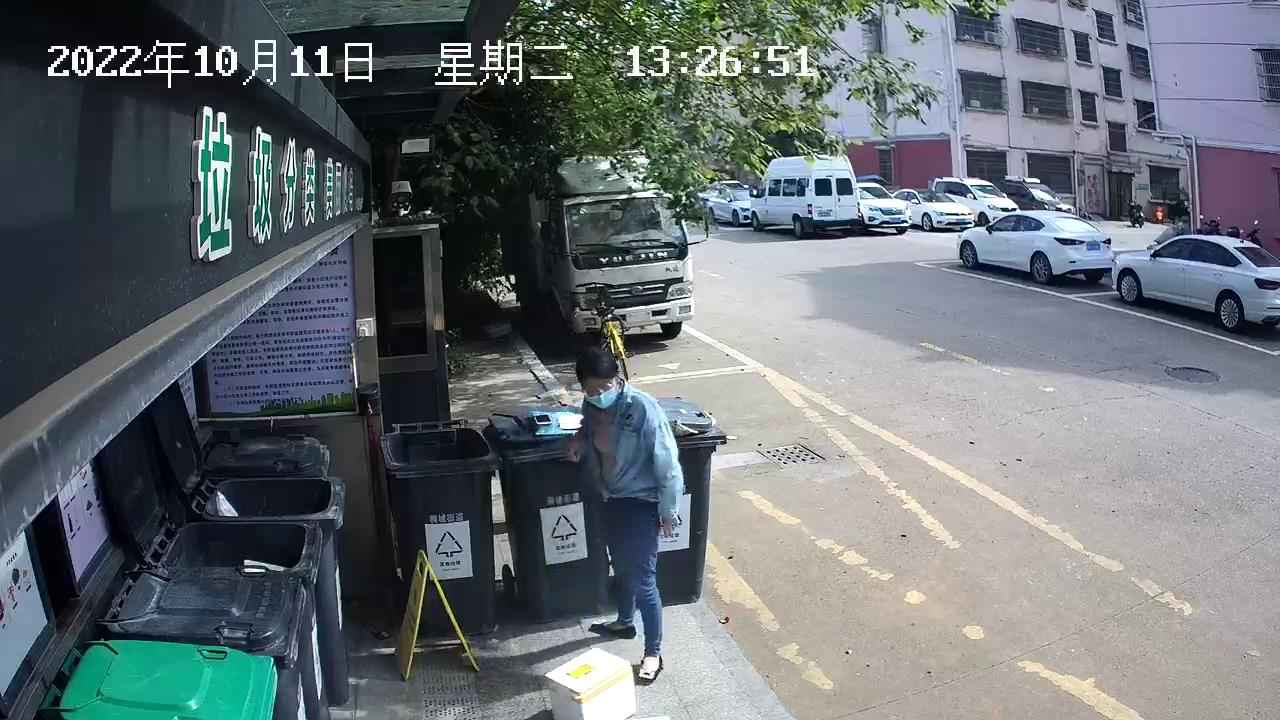worker: (556, 342, 691, 690)
zhizhipin: (540, 644, 643, 720)
